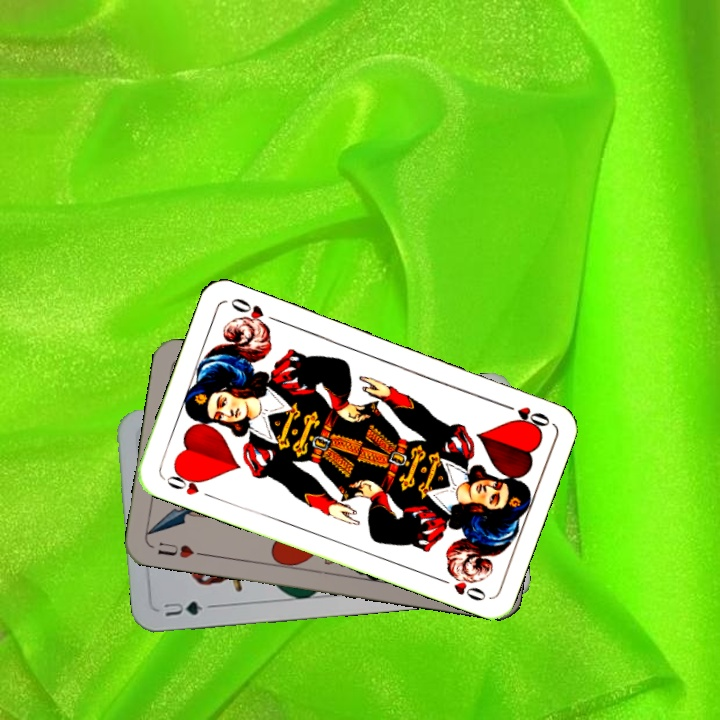GU: (160, 596, 205, 619)
HO: (160, 466, 217, 501), (496, 399, 553, 431)
HU: (153, 538, 208, 561)
